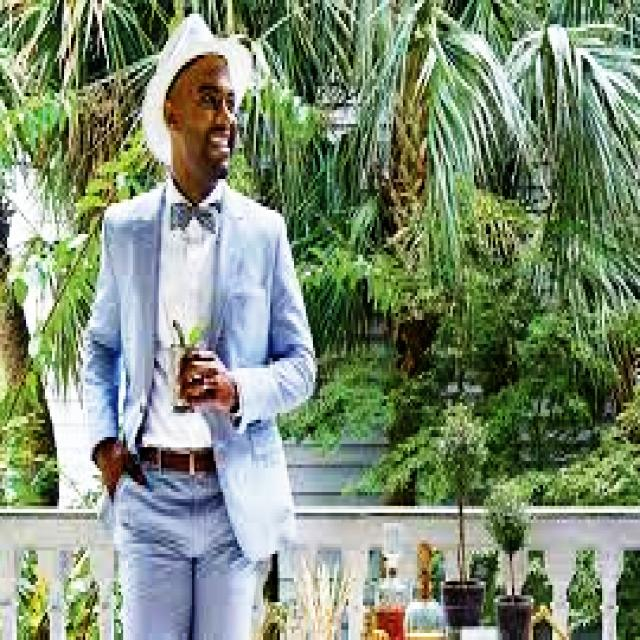TOPI: (135, 10, 254, 172)
